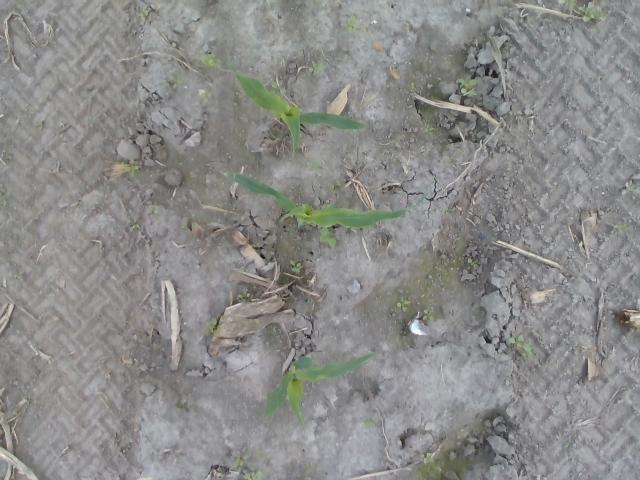Maize: (229, 57, 371, 161), (220, 168, 432, 230), (260, 348, 378, 436)
Weeds: (576, 4, 606, 24), (509, 334, 533, 358), (272, 77, 290, 96), (319, 228, 336, 248), (460, 78, 478, 96), (342, 16, 362, 32), (198, 55, 220, 69), (206, 317, 220, 337), (123, 160, 139, 177), (236, 453, 251, 470), (624, 182, 640, 196), (240, 469, 260, 480), (364, 411, 376, 428), (395, 299, 410, 312), (312, 61, 325, 76), (200, 87, 212, 101), (612, 222, 628, 232), (468, 258, 481, 270), (290, 259, 302, 271), (140, 9, 150, 23), (330, 181, 344, 190), (237, 292, 250, 300), (174, 78, 184, 88), (308, 161, 320, 168), (424, 310, 433, 319), (150, 206, 160, 214), (130, 224, 140, 230)
